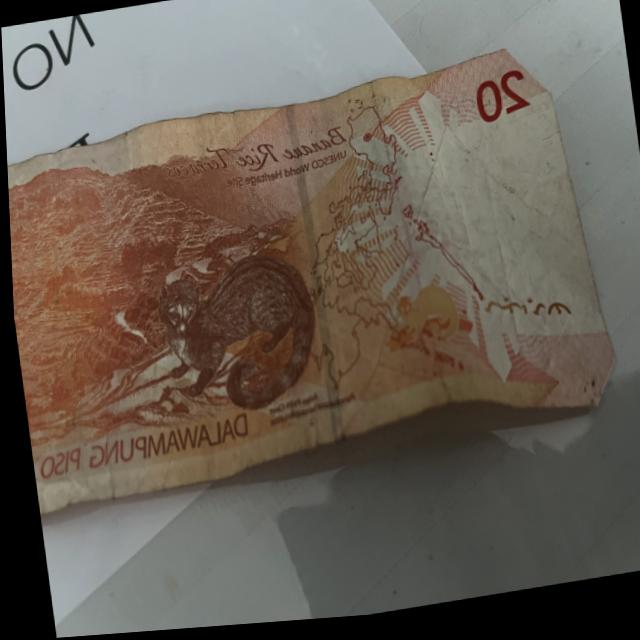20_civet: (140, 244, 319, 437)
20_civet_watermark: (377, 281, 463, 374)
